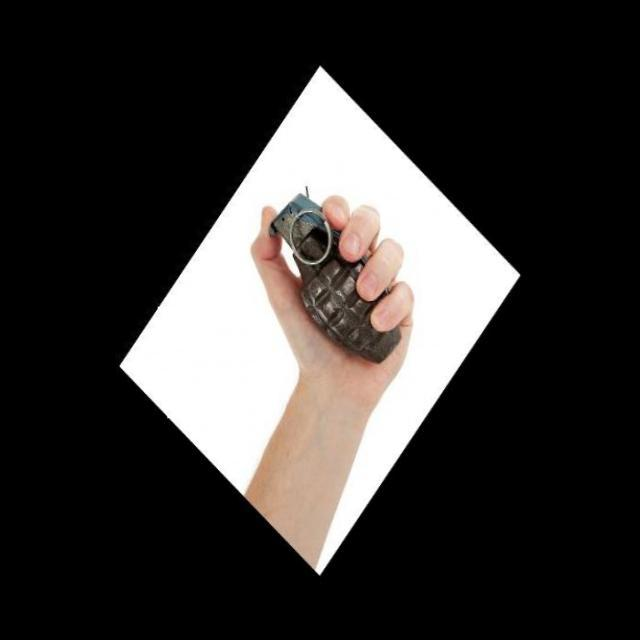grenade: (265, 175, 409, 382)
